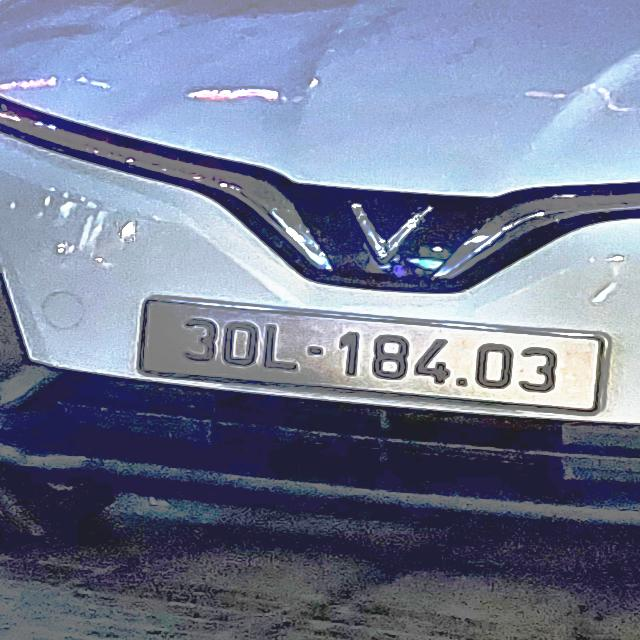license_plate: (122, 289, 621, 432)
